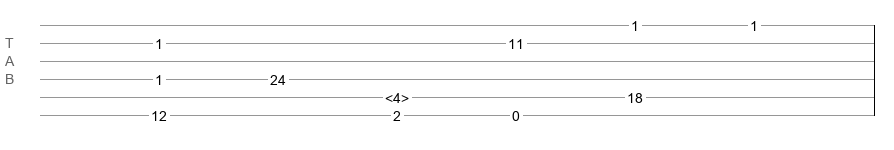0: (512, 108, 520, 118)
1: (155, 72, 163, 82), (155, 36, 163, 46), (631, 18, 639, 28), (750, 18, 758, 28)
11: (508, 36, 524, 46)
12: (151, 108, 167, 118)
18: (627, 90, 643, 100)
2: (393, 108, 401, 118)
24: (270, 72, 286, 82)
harmonic: (385, 90, 409, 100)
